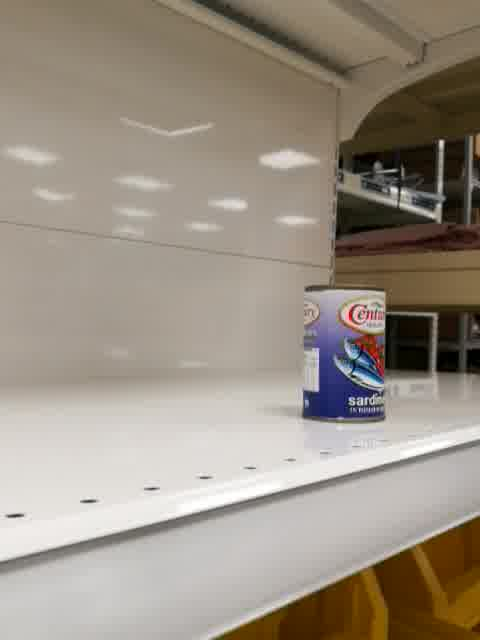sardine: (300, 282, 389, 425)
